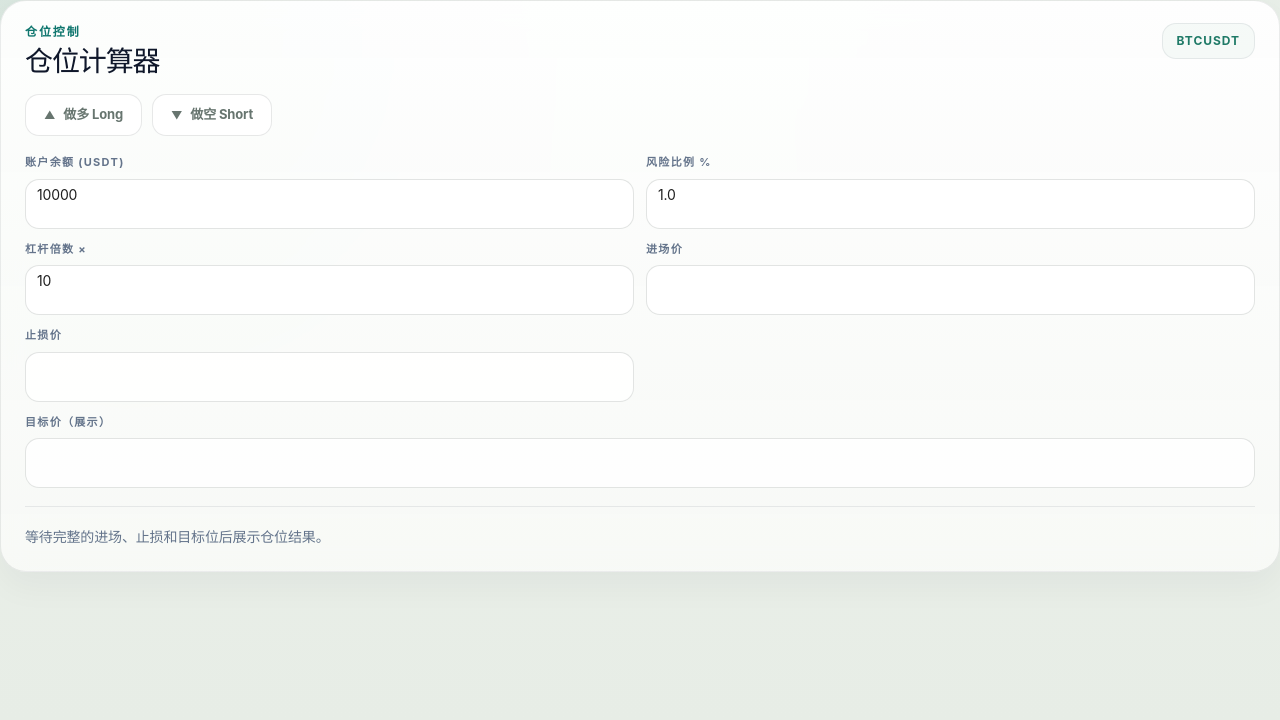
Test: PositionCalculator render › shows error tag when stop equals entry
Type "100" into the number field labelled "进场价" at {"x": 950, "y": 281}, box [647, 266, 1254, 296]
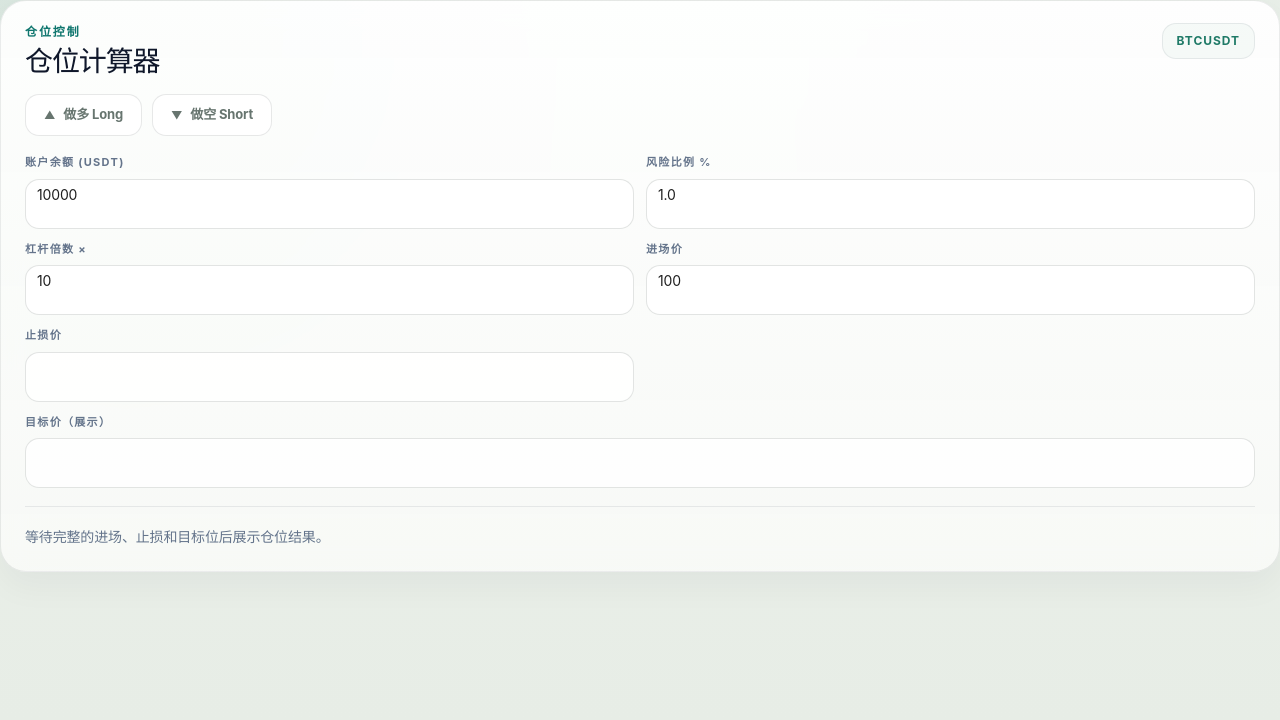
Type "100" into the number field labelled "止损价" at {"x": 330, "y": 368}, box [26, 353, 633, 383]
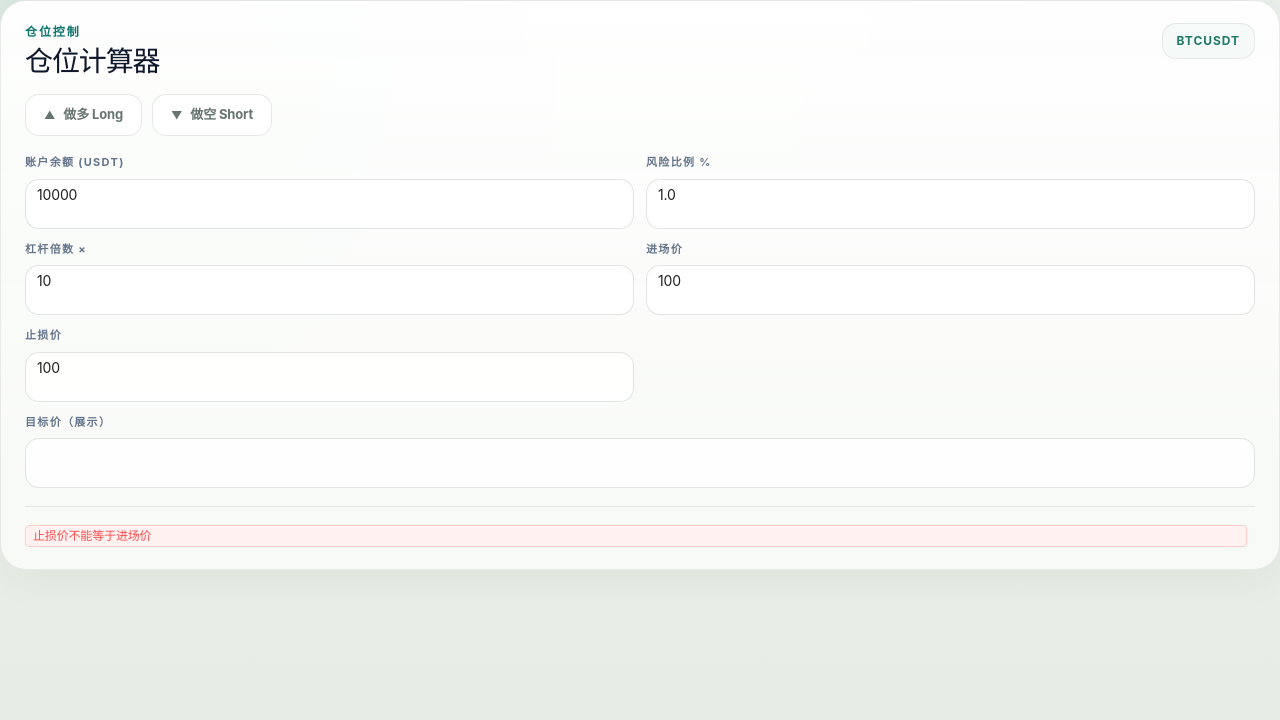
Check: the text "止损价不能等于进场价" is shown, box [25, 525, 1247, 547]
